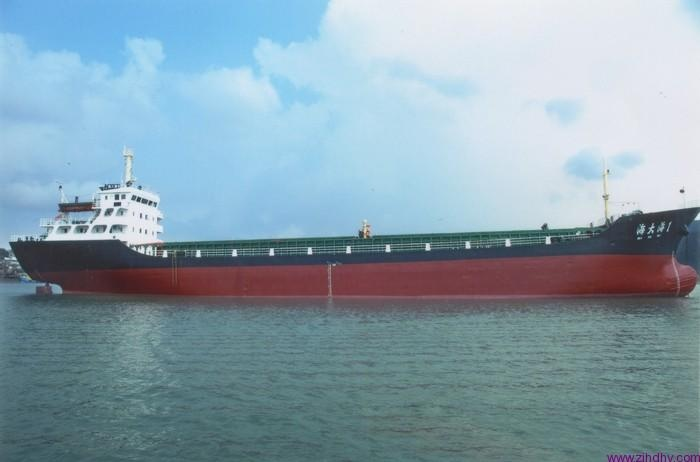Cargoship: (6, 143, 700, 302)
